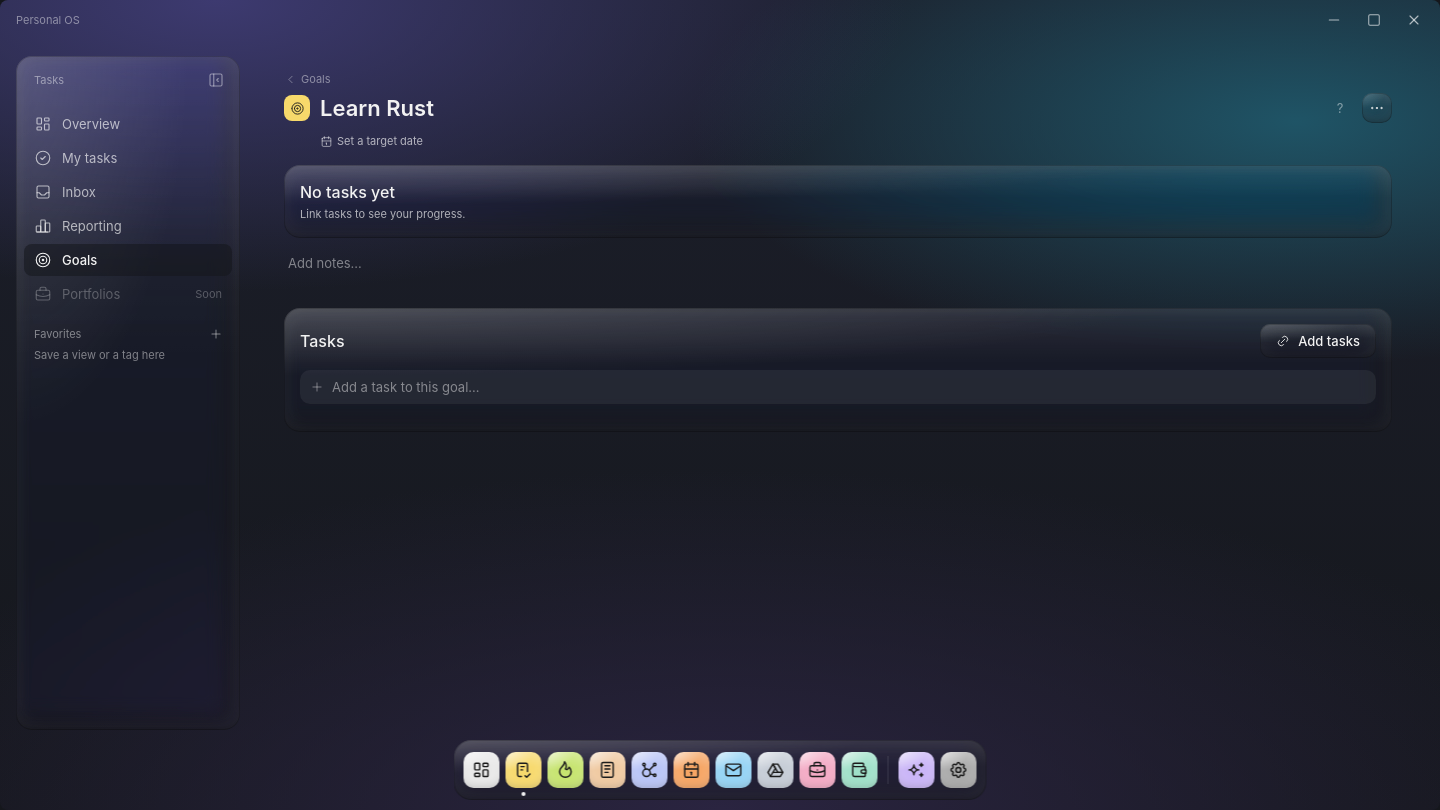
the goal header › refuses an empty title, says so, and puts the old title back
The width and height of the screenshot is (1440, 810).
Step 1. Clear the field named "Goal title" → (817, 108), box [316,94,1318,122]
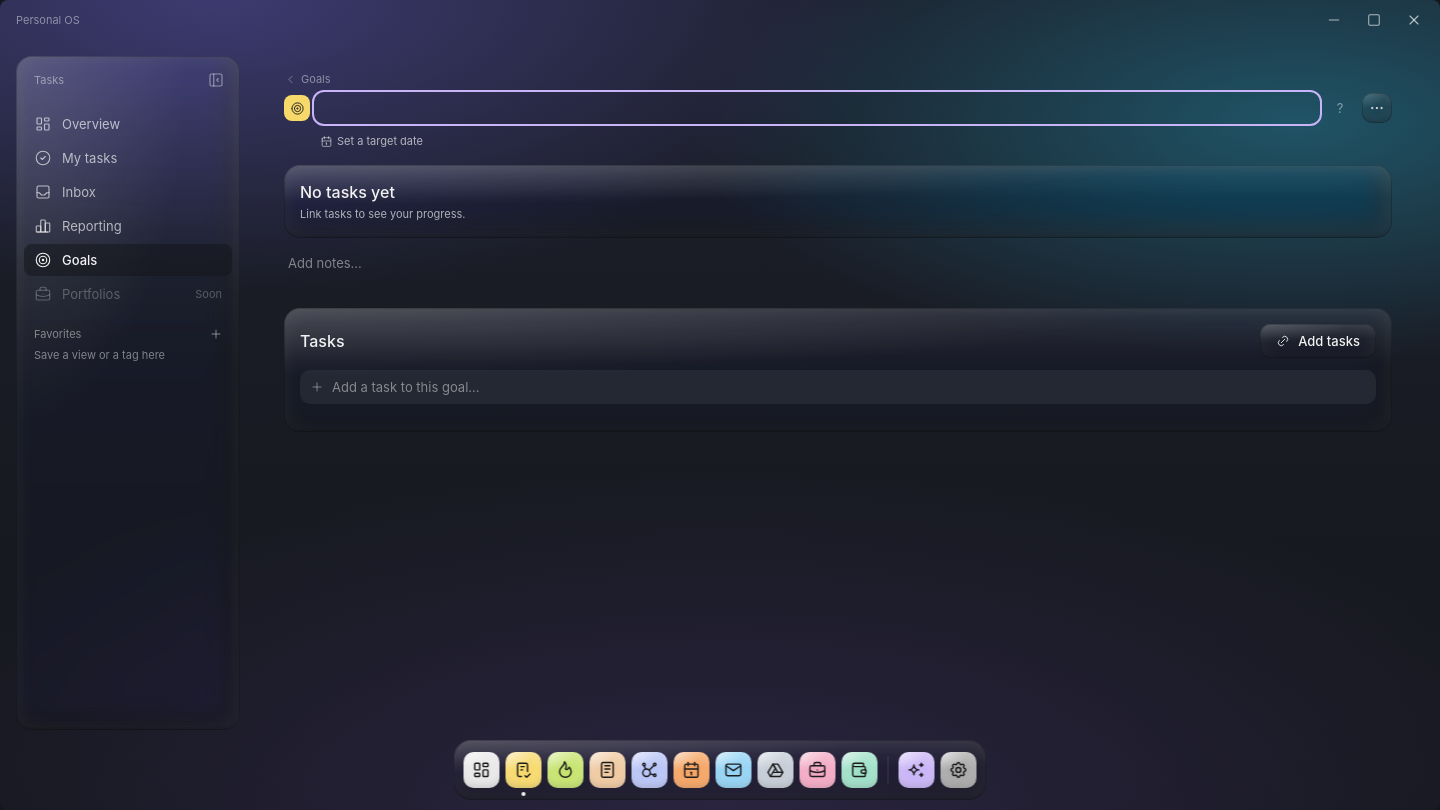
Step 2. Press Enter
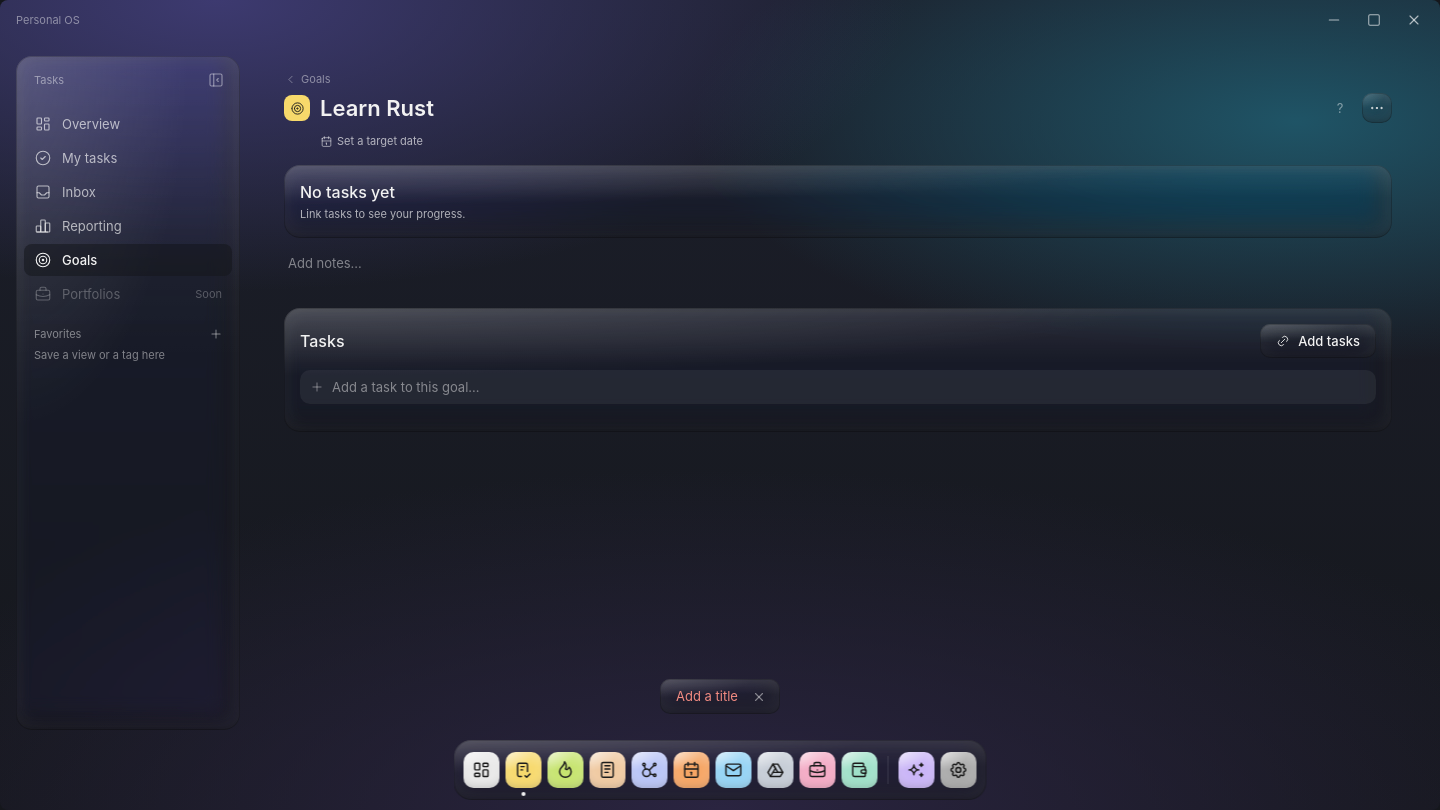
Expected: the field named "Goal title" holds "Learn Rust", [316,94,1318,122]
